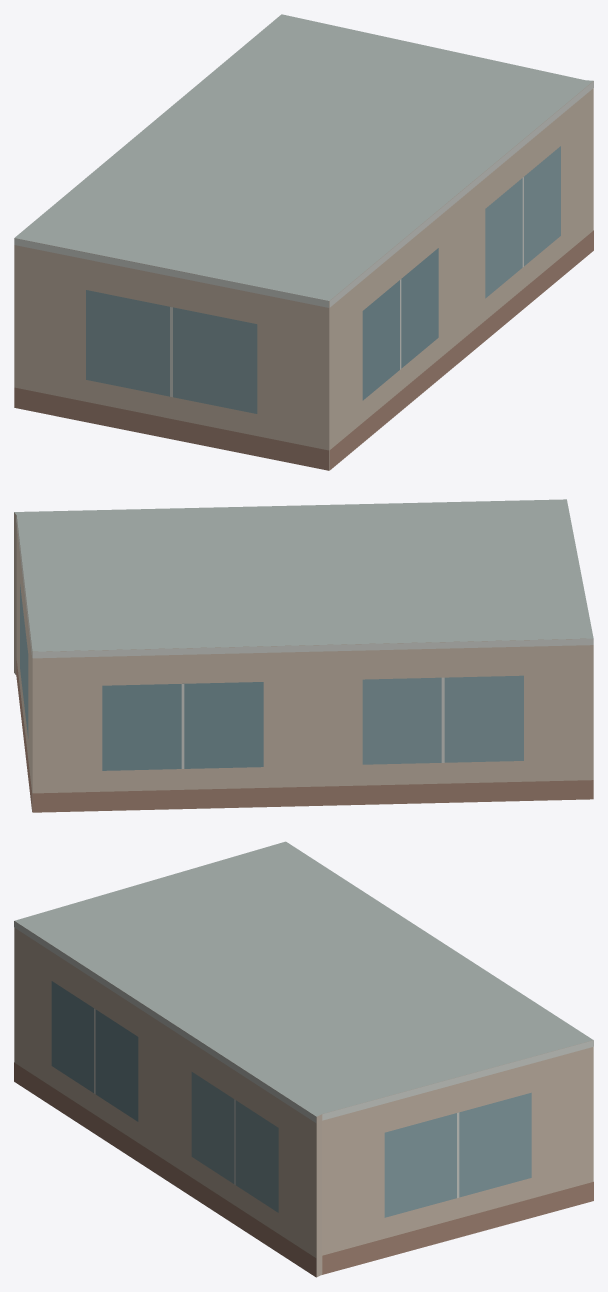
Rendered from survey-upis-32636027.glb.
3 renders of one model, top to bottom at view 1: azimuth 30°, elevation 25°; view 2: azimuth 150°, elevation 25°; view 3: azimuth 270°, elevation 25°, orthographic. The views are drawn at different scales.
Visible parts, largest first — view 1: survey-upis-32636027.tmp; view 2: survey-upis-32636027.tmp; view 3: survey-upis-32636027.tmp.
Part boxes in pixels (left/top/right/bottom): survey-upis-32636027.tmp: left=14, top=14, right=593, bottom=470; survey-upis-32636027.tmp: left=14, top=499, right=593, bottom=812; survey-upis-32636027.tmp: left=14, top=841, right=593, bottom=1277.
Bounding box in the file's own units: 11.21 × 3.05 × 9.97.
